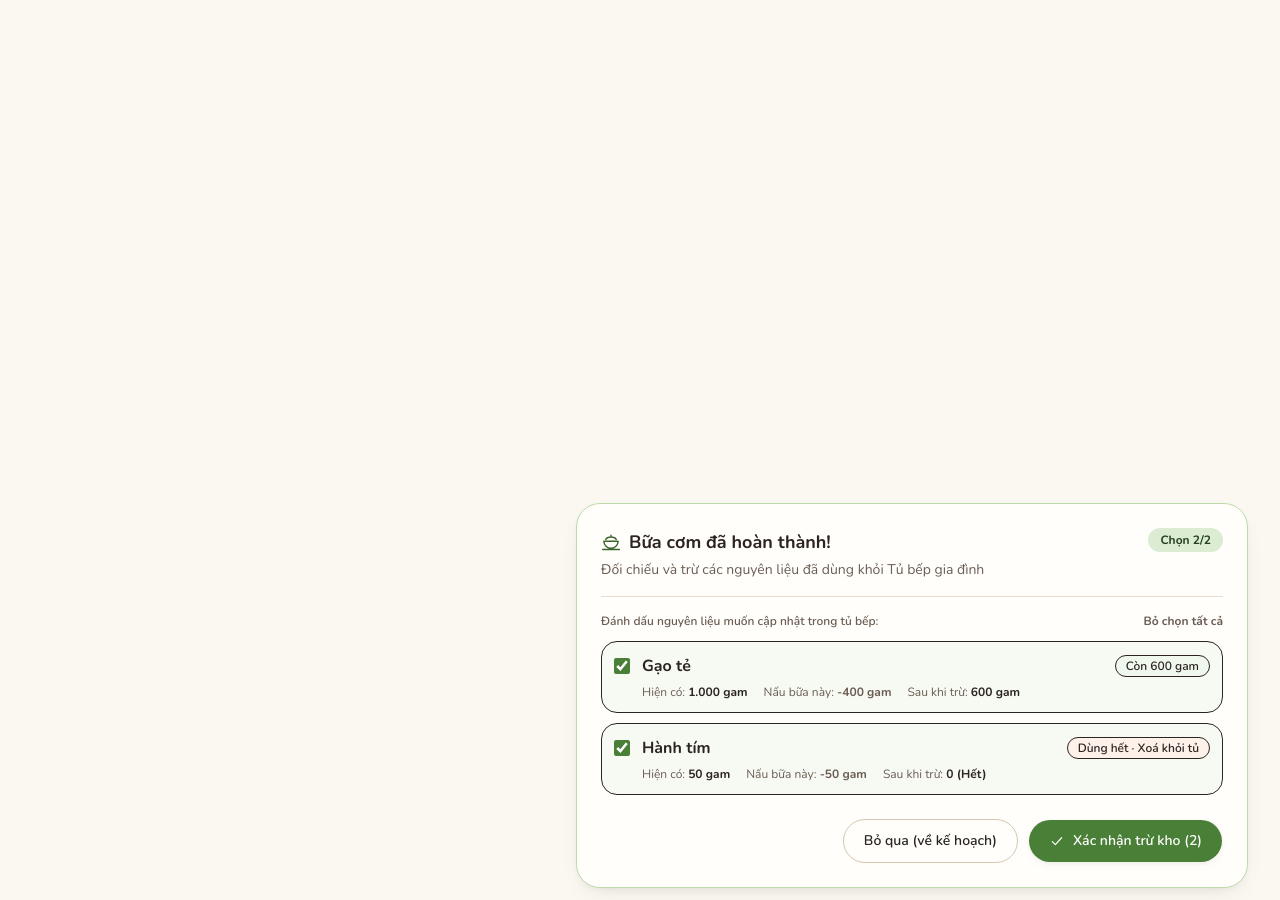
Test case: PantryCookingDeductionModal › select all and deselect all work properly
What coordinates should you click on to do the following:
click the button "Bỏ chọn tất cả"
I would click on:
 (1183, 621)
Its box is 1143,613 -> 1223,629.
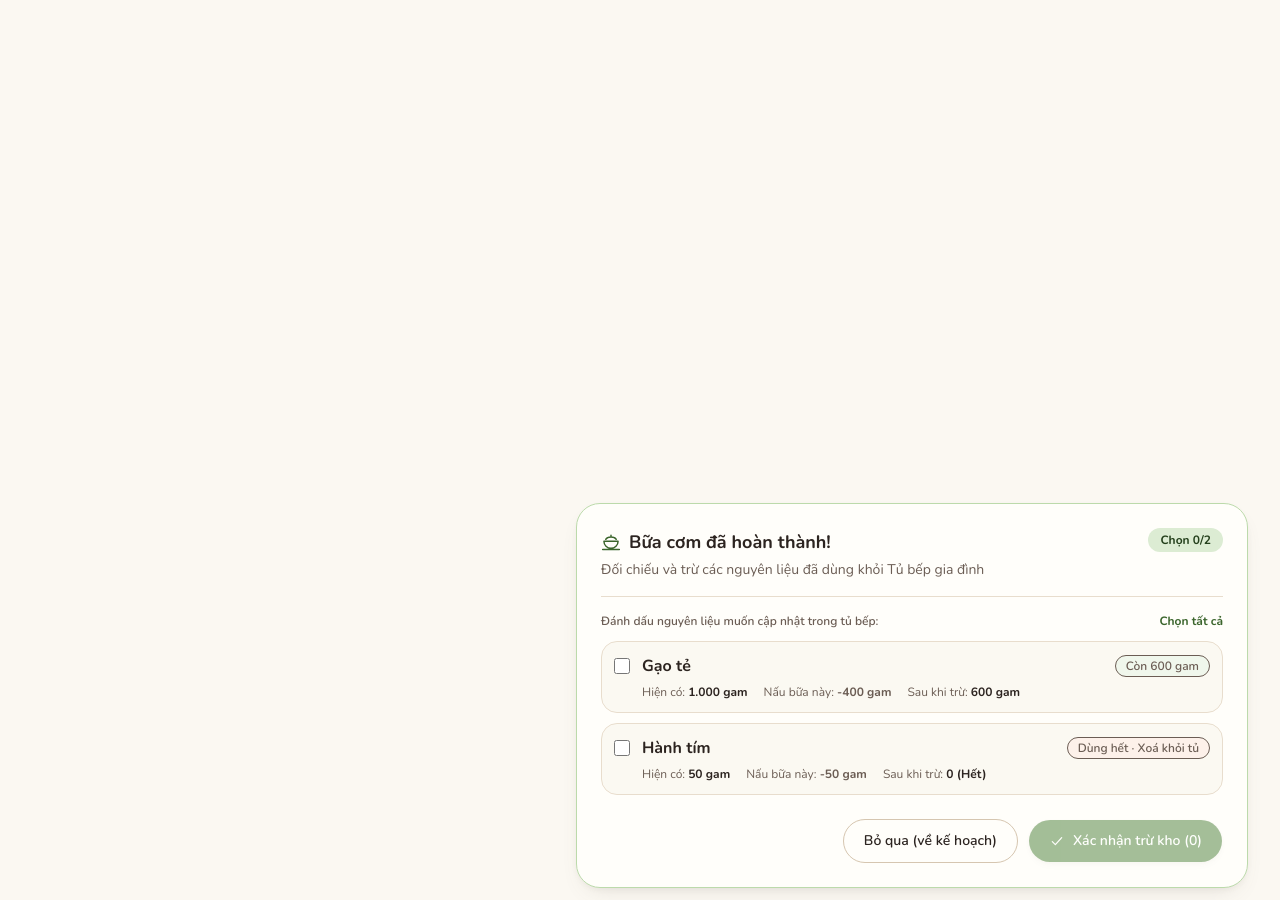
Result: the text "Chọn 0/2" is shown at 1148,528 -> 1223,552
Result: the button "Xác nhận trừ kho (0)" is disabled at 1028,819 -> 1223,863
Note: Now shows "Chọn tất cả"
What coordinates should you click on to do the following:
click the button "Chọn tất cả"
I would click on:
 (1191, 621)
Its box is 1159,613 -> 1223,629.
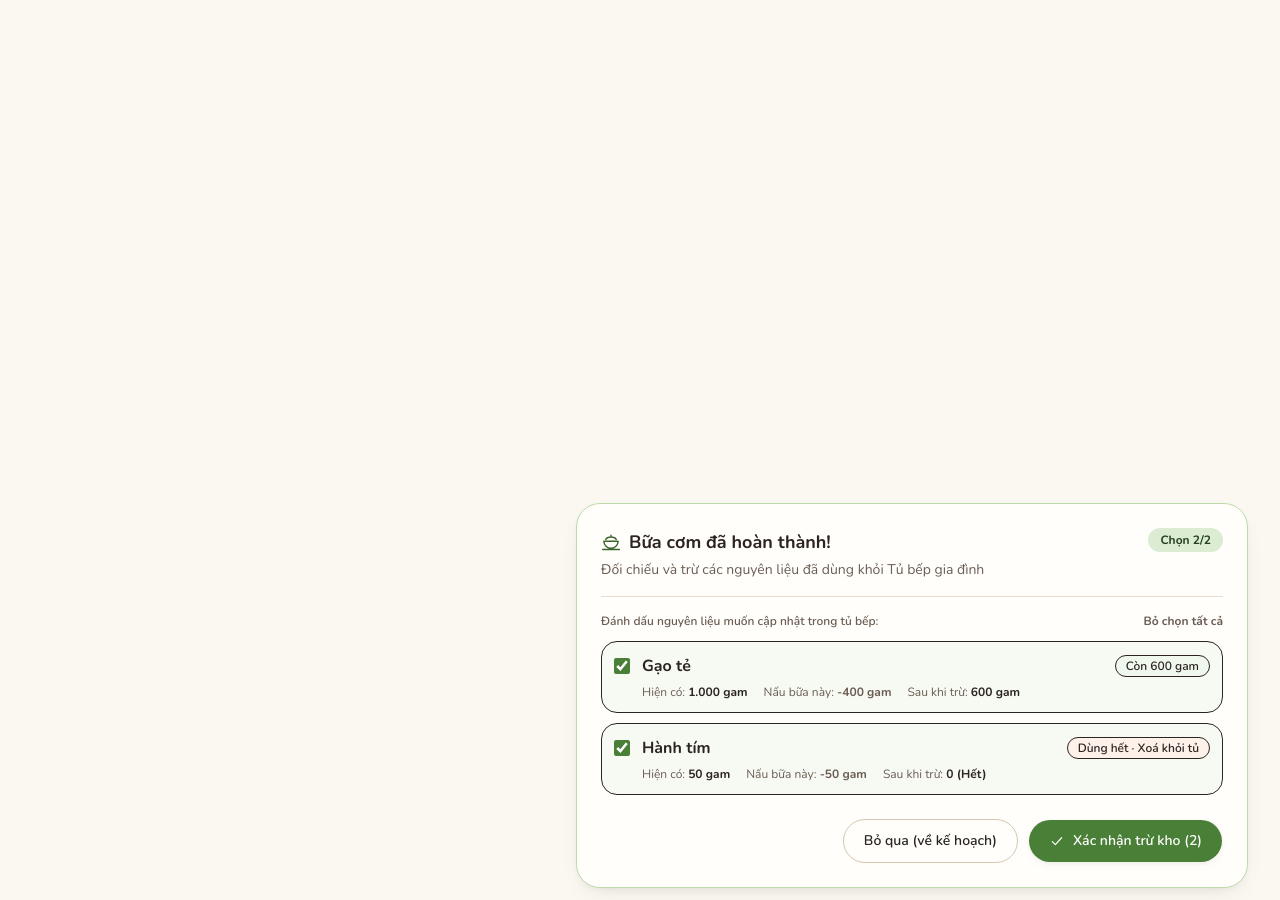
Result: the text "Chọn 2/2" is shown at 1148,528 -> 1223,552
Result: the button "Xác nhận trừ kho (2)" is enabled at 1028,819 -> 1223,863
